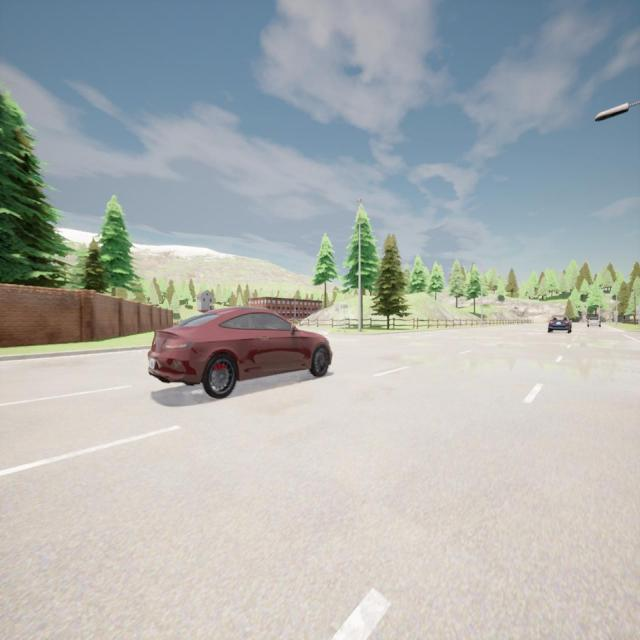Traffic_Signs: (340, 304, 349, 308)
Vehicle: (148, 307, 332, 397), (548, 315, 572, 333), (588, 316, 601, 328)
